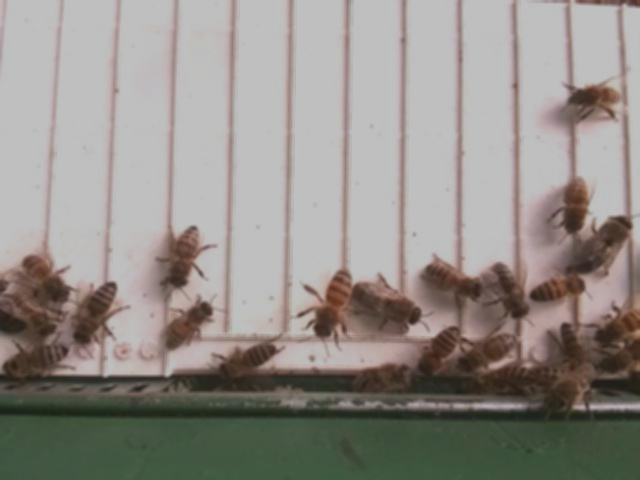Drone: (570, 211, 638, 276), (351, 278, 426, 328)
Worker: (73, 278, 120, 349), (311, 265, 355, 340), (163, 298, 216, 352), (422, 259, 487, 300), (489, 260, 532, 321), (20, 251, 70, 303), (166, 221, 204, 289), (458, 330, 519, 372), (416, 322, 464, 373), (218, 338, 282, 376), (4, 339, 71, 375), (563, 82, 626, 112), (562, 173, 590, 237), (558, 317, 593, 368), (529, 274, 587, 303)
